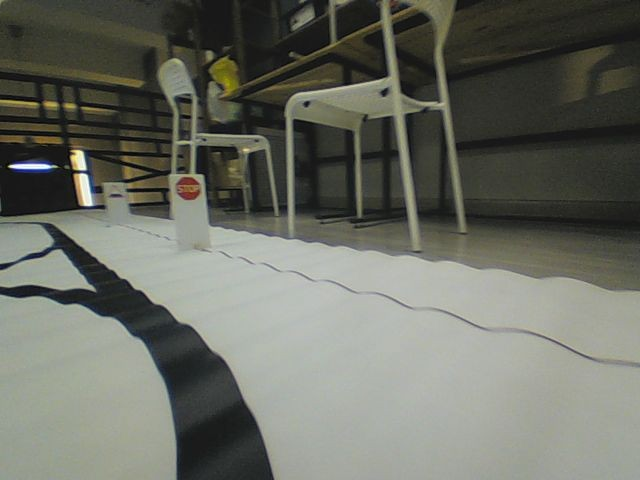Stop: (175, 175, 200, 201)
